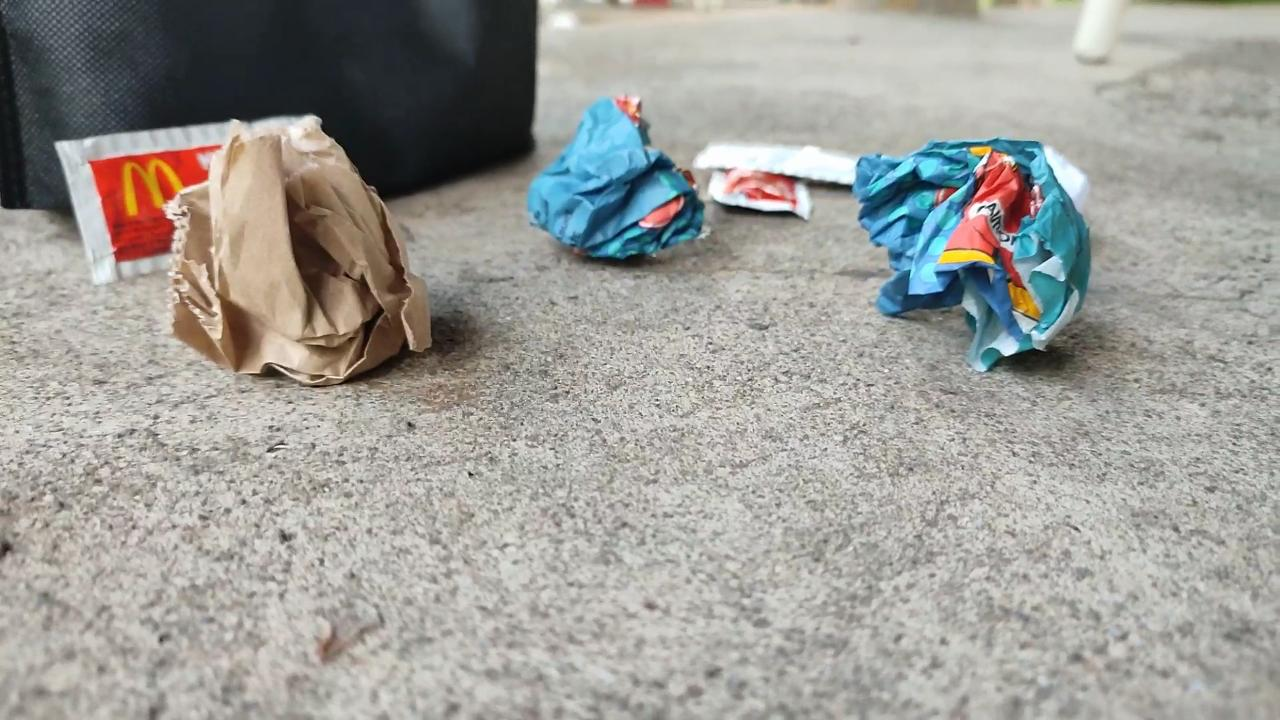Paper: (164, 112, 442, 388), (837, 112, 1102, 362), (511, 72, 716, 286)
